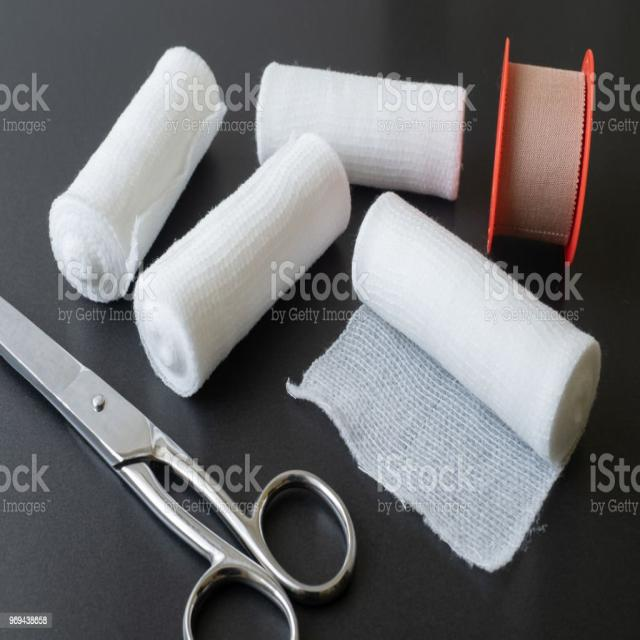B3: (346, 182, 616, 485), (116, 126, 361, 394), (35, 34, 244, 309), (243, 38, 477, 214)
